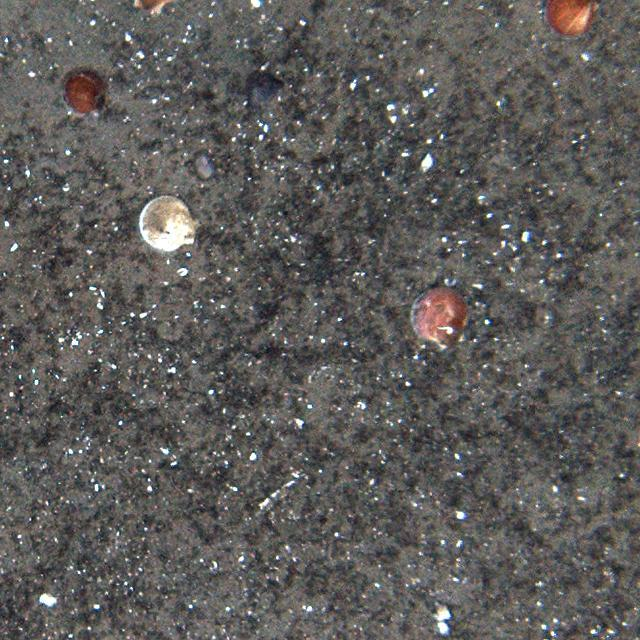scallop: (408, 283, 471, 348)
